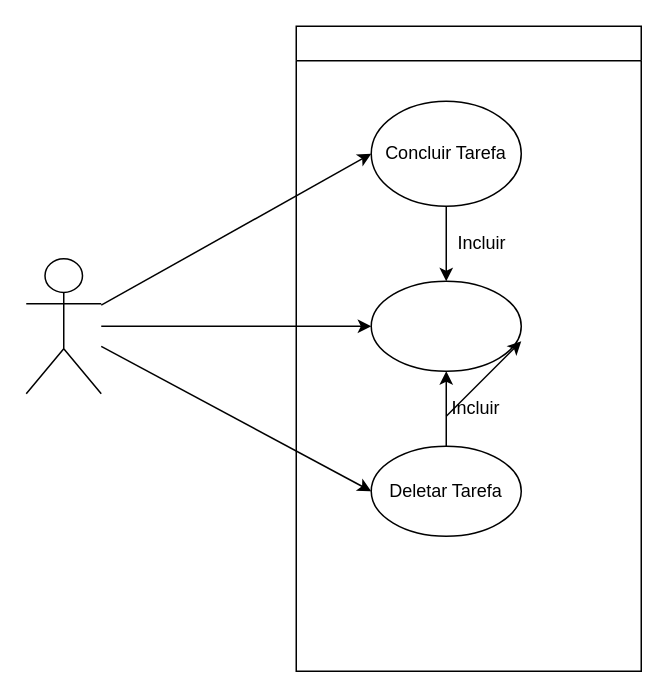
The diagram is 668 pixels wide and 698 high, and some of its shapes have lost their labels. The box of each missing label's shape, as (x1, y1, x2, y2) in pixels:
Cadastrar Tarefa: (370, 280, 521, 371)
Usuario: (25, 257, 101, 394)
